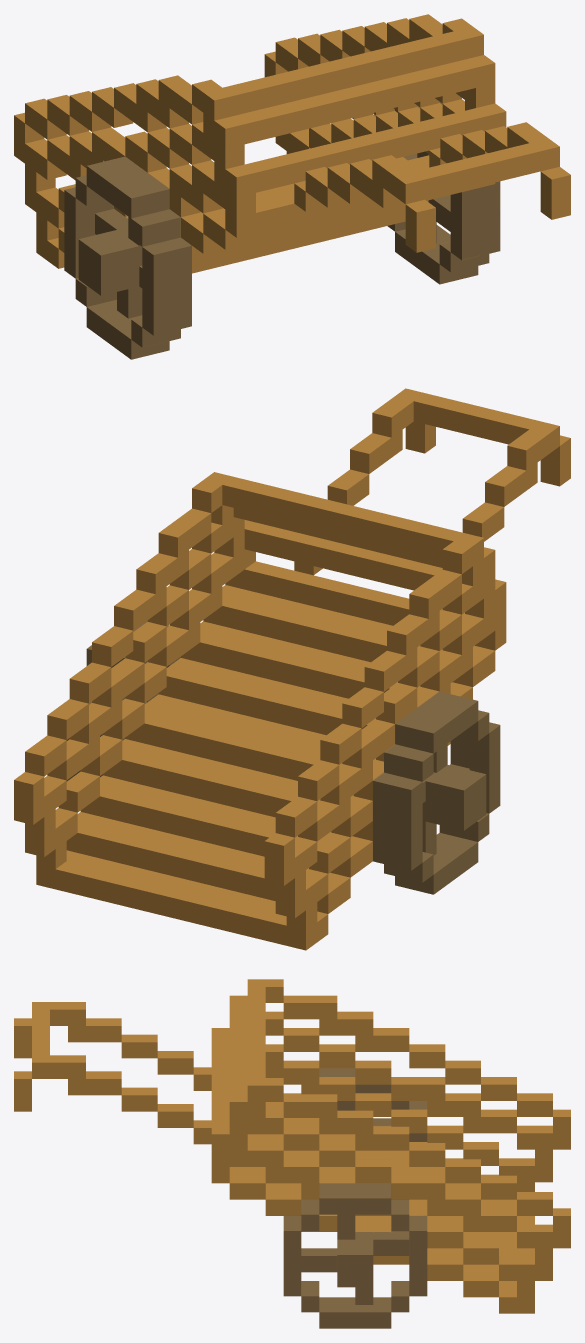
Rendered from Cart_Inclined.glb.
The picture shows the model from 3 angles, top to bottom: view 1: azimuth 30°, elevation 25°; view 2: azimuth 150°, elevation 25°; view 3: azimuth 270°, elevation 25°; orthographic projection. The views are drawn at different scales.
Parts seen in each view (by area): view 1: Cart_Inclined; view 2: Cart_Inclined; view 3: Cart_Inclined.
Part boxes in pixels (x1,y1,x2,y2): Cart_Inclined: (14,14,570,359); Cart_Inclined: (14,388,570,950); Cart_Inclined: (14,979,570,1328).
Size of the model in its own units: 2 by 1.4 by 3.1.
Materials: 1 (1 with a texture image).
